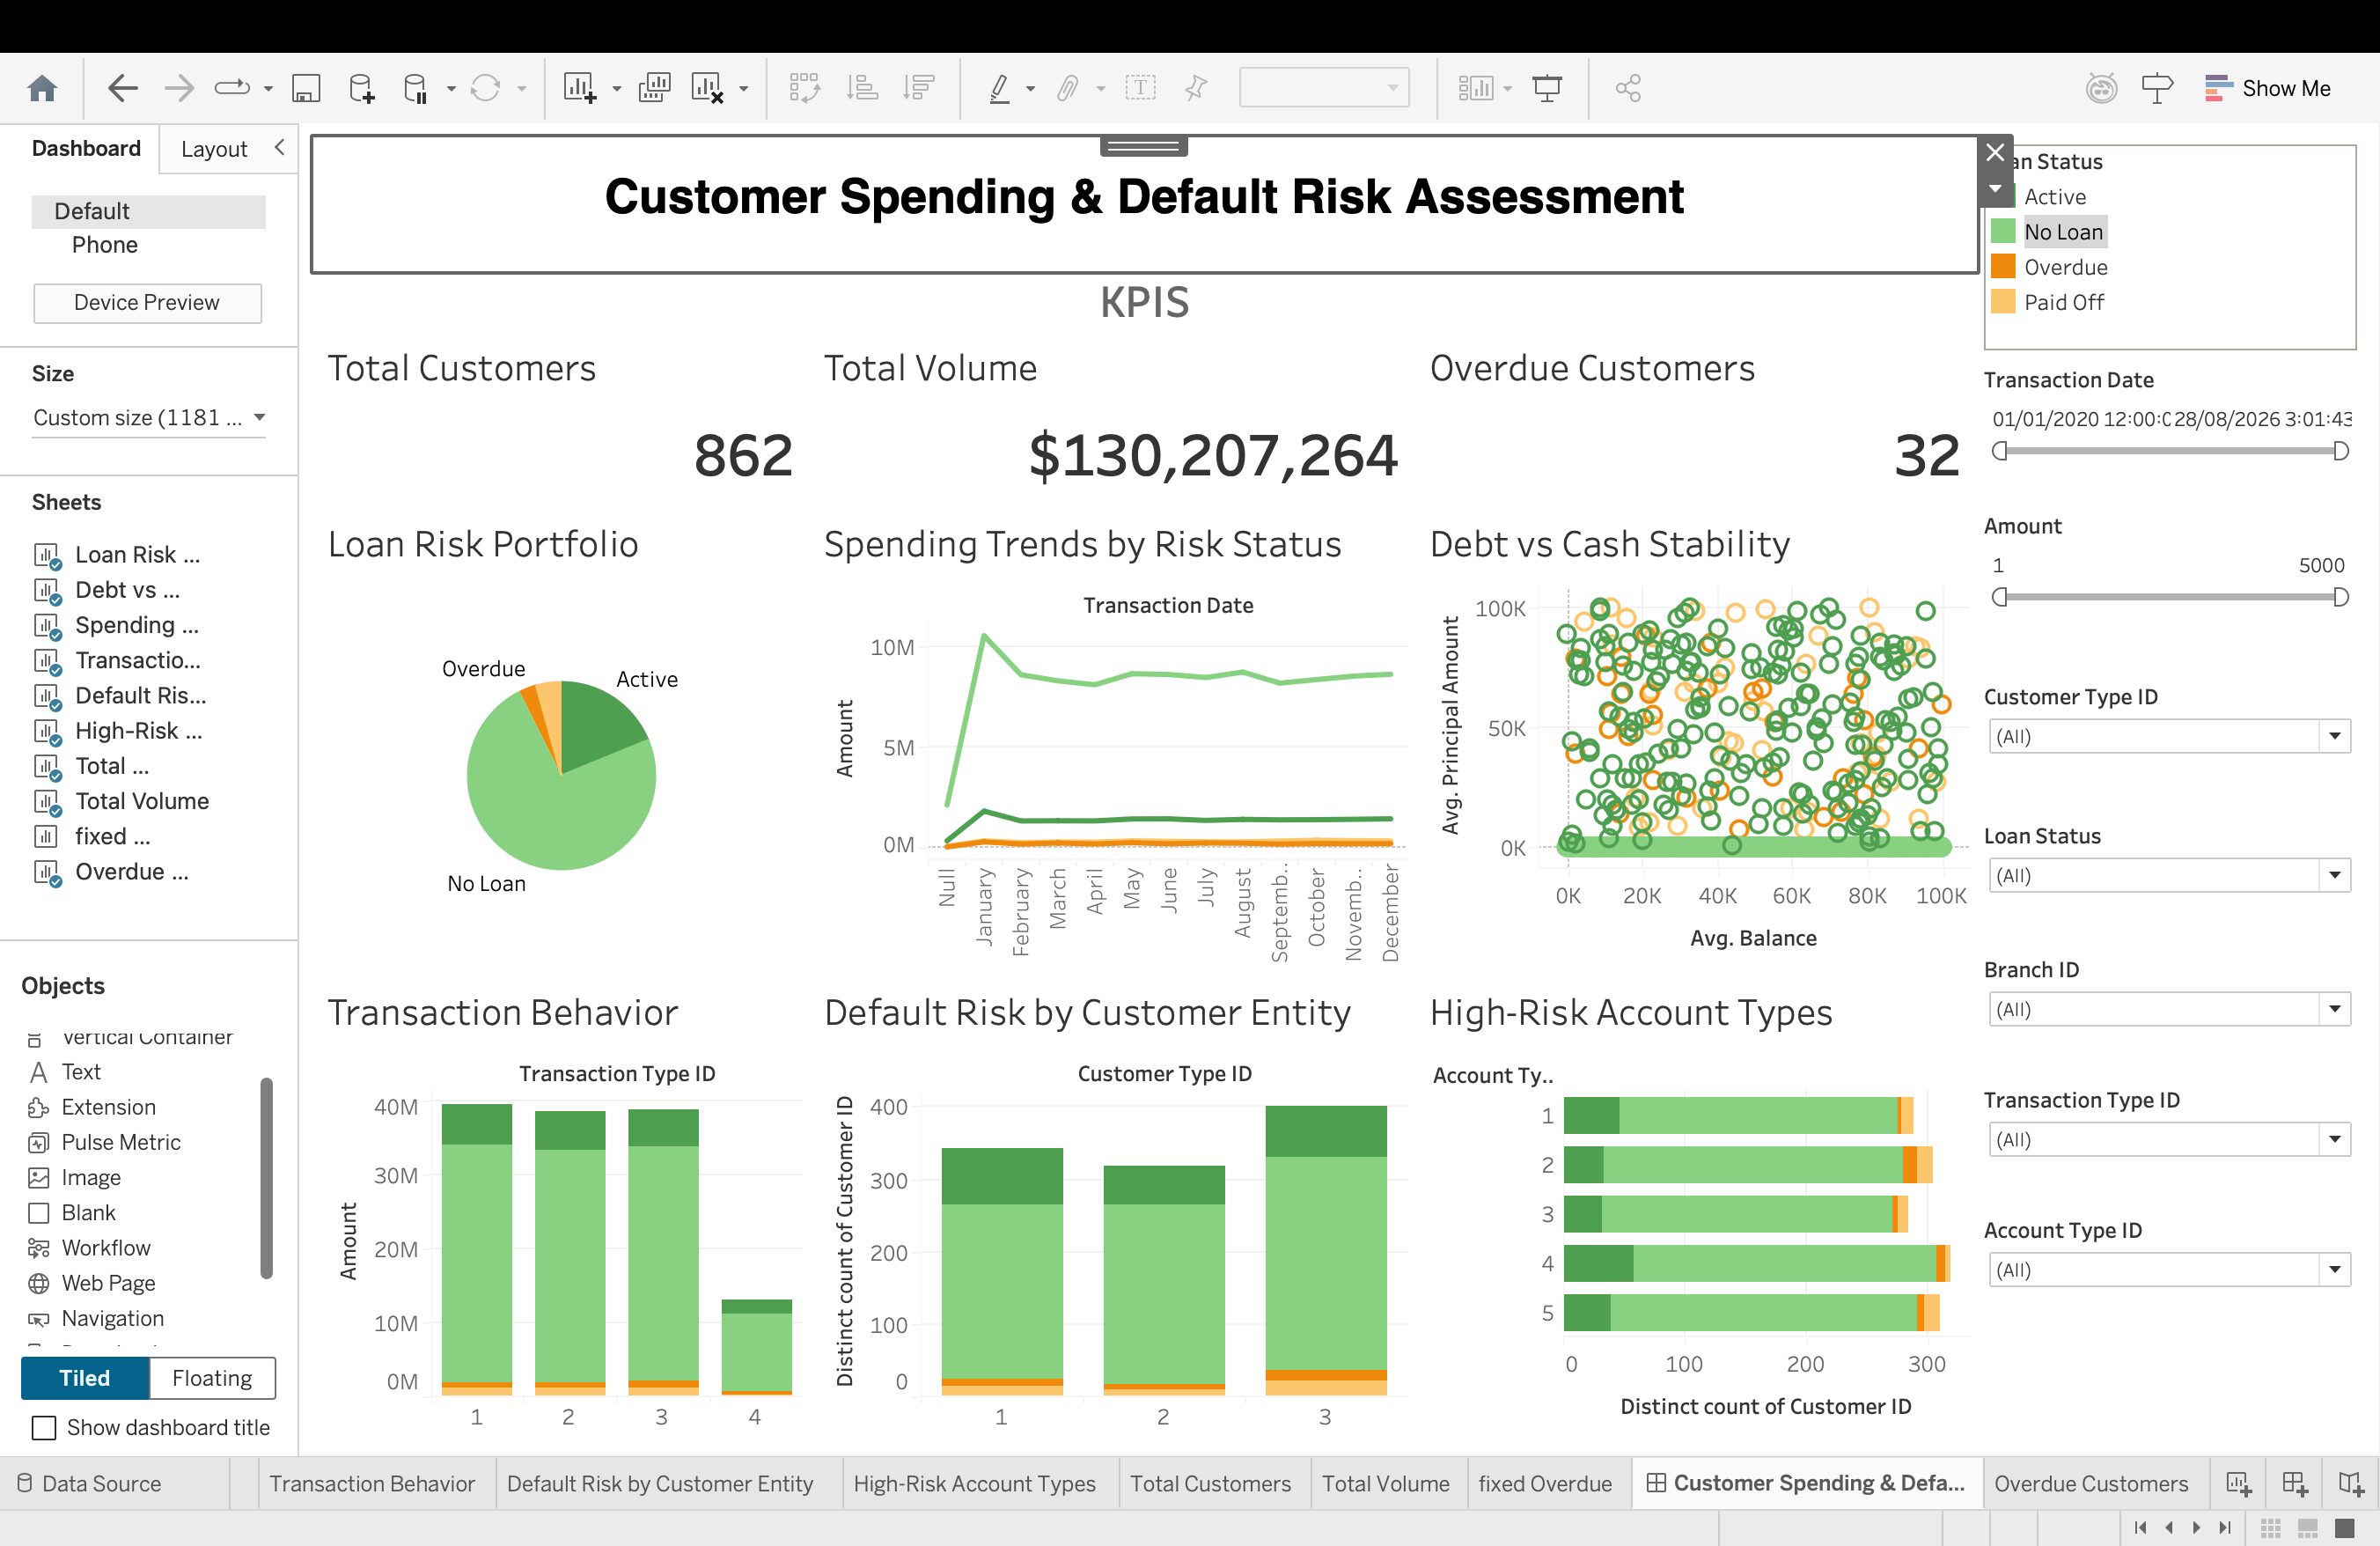

What the dashboard file says about the page in this screenshot:
{"tool":"tableau","page":{"name":"Customer Spending & Default Risk Assessment","canvas":[1181,756],"ordinal":0},"visuals":[{"type":"text","box":[8,8,945,76]},{"type":"legend","title":"Loan Risk Portfolio","param":"[federated.1b963q51tloi0z1b1s34x10bvagw].[none:Loan_Status:nk]","box":[953,8,220,125]},{"type":"text","box":[8,84,945,32]},{"type":"worksheet","title":"Total Customers","mark":"Automatic","box":[8,116,281.8,100]},{"type":"worksheet","title":"Total Volume","mark":"Automatic","box":[289.8,116,344.3,100]},{"type":"worksheet","title":"Overdue Customers","mark":"Automatic","box":[634.1,116,319,100]},{"type":"filter","title":"Spending Trends by Risk Status","param":"[federated.1b963q51tloi0z1b1s34x10bvagw].[none:TransactionDate:qk]","box":[953,133,220,83]},{"type":"worksheet","title":"Loan Risk Portfolio","mark":"Pie","box":[8,216,281.8,266]},{"type":"worksheet","title":"Spending Trends by Risk Status","mark":"Automatic","rows":["Amount"],"cols":["TransactionDate"],"box":[289.8,216,344.3,266]},{"type":"worksheet","title":"Debt vs Cash Stability","mark":"Automatic","rows":["PrincipalAmount"],"cols":["Balance"],"box":[634.1,216,319,266]},{"type":"filter","title":"Spending Trends by Risk Status","param":"[federated.1b963q51tloi0z1b1s34x10bvagw].[none:Amount:qk]","box":[953,216,220,97]},{"type":"filter","title":"Default Risk by Customer Entity","param":"[federated.1b963q51tloi0z1b1s34x10bvagw].[none:CustomerTypeID:ok]","box":[953,313,220,79]},{"type":"filter","title":"Loan Risk Portfolio","param":"[federated.1b963q51tloi0z1b1s34x10bvagw].[none:Loan_Status:nk]","box":[953,392,220,76]},{"type":"filter","title":"Debt vs Cash Stability","param":"[federated.1b963q51tloi0z1b1s34x10bvagw].[none:BranchID:ok]","box":[953,468,220,74]},{"type":"worksheet","title":"Transaction Behavior","mark":"Automatic","rows":["Amount"],"cols":["TransactionTypeID"],"box":[8,482,281.8,266]},{"type":"worksheet","title":"Default Risk by Customer Entity","mark":"Automatic","rows":["CustomerID"],"cols":["CustomerTypeID"],"box":[289.8,482,344.3,266]},{"type":"worksheet","title":"High-Risk Account Types","mark":"Bar","rows":["AccountTypeID"],"cols":["CustomerID"],"box":[634.1,482,319,266]},{"type":"filter","title":"Transaction Behavior","param":"[federated.1b963q51tloi0z1b1s34x10bvagw].[none:TransactionTypeID:ok]","box":[953,542,220,74]},{"type":"filter","title":"High-Risk Account Types","param":"[federated.1b963q51tloi0z1b1s34x10bvagw].[none:AccountTypeID:ok]","box":[953,616,220,84]}]}

Visuals, with their boxes on the page's 1181x756 design canvas (x1, y1, x2, y2). These are canvas units, not pixel positions in the 2380x1546 screenshot, which may show the page scaled, cropped or inside an application window:
text: [8,8,953,84]
"Loan Risk Portfolio" legend: [953,8,1173,133]
text: [8,84,953,116]
"Total Customers" worksheet: [8,116,290,216]
"Total Volume" worksheet: [290,116,634,216]
"Overdue Customers" worksheet: [634,116,953,216]
"Spending Trends by Risk Status" filter: [953,133,1173,216]
"Loan Risk Portfolio" worksheet (Pie marks): [8,216,290,482]
"Spending Trends by Risk Status" worksheet: [290,216,634,482]
"Debt vs Cash Stability" worksheet: [634,216,953,482]
"Spending Trends by Risk Status" filter: [953,216,1173,313]
"Default Risk by Customer Entity" filter: [953,313,1173,392]
"Loan Risk Portfolio" filter: [953,392,1173,468]
"Debt vs Cash Stability" filter: [953,468,1173,542]
"Transaction Behavior" worksheet: [8,482,290,748]
"Default Risk by Customer Entity" worksheet: [290,482,634,748]
"High-Risk Account Types" worksheet (Bar marks): [634,482,953,748]
"Transaction Behavior" filter: [953,542,1173,616]
"High-Risk Account Types" filter: [953,616,1173,700]
